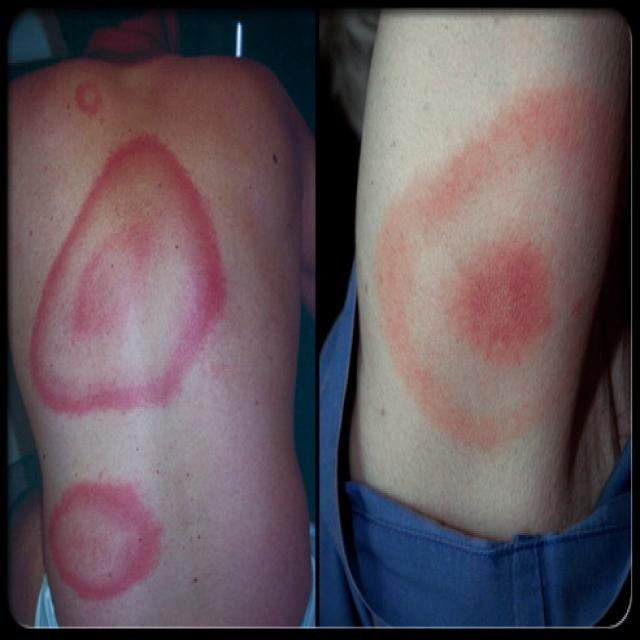Ringworm: (0, 113, 258, 437), (30, 468, 183, 610), (438, 222, 568, 383), (62, 70, 108, 118)
